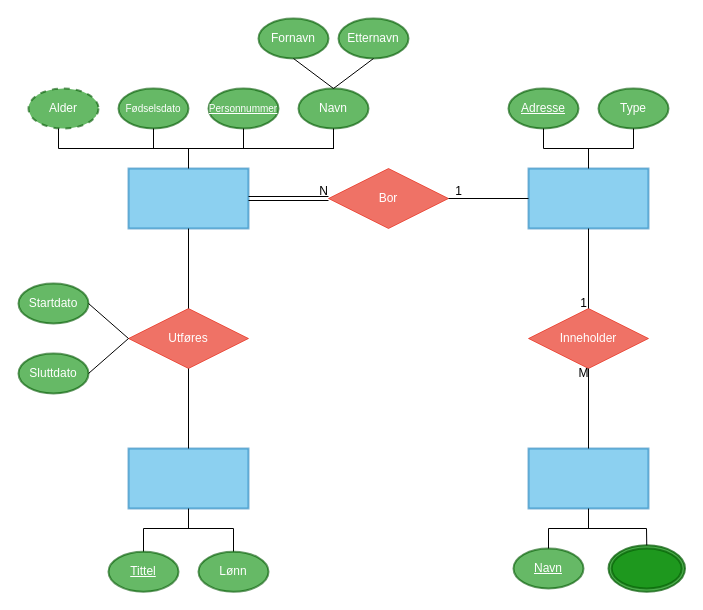
This 703x610 diagram has some shape labels left out. Each missing label, with the centre of its shape:
Bolig: [588,198]
Bruksområde: [646,568]
Menneske: [188,198]
Rom: [588,478]
Yrke: [188,478]
